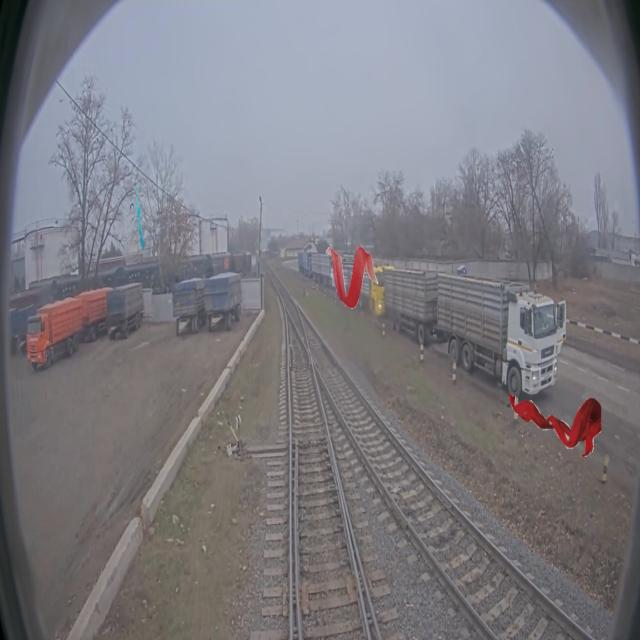balloon: (507, 393, 601, 457)
floating object: (325, 244, 379, 308), (126, 179, 148, 252)
